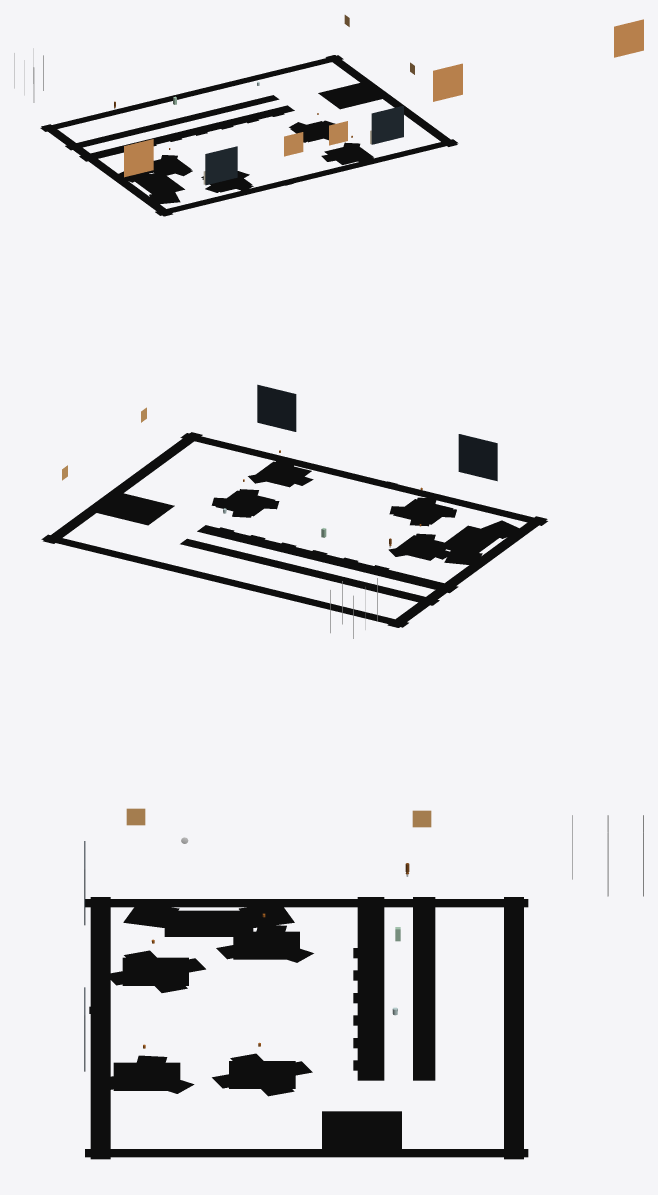
File: world_clear.glb
3 views of the same model, one above another, from view 1: azimuth 30°, elevation 25°; view 2: azimuth 150°, elevation 25°; view 3: azimuth 270°, elevation 25° (orthographic). The views are drawn at different scales.
Visible parts, largest first — view 1: g000, g001, g005, g002, g004, g042, g043, g045, g003, g061, g062, g060 (+7 smaller); view 2: g000, g001, g005, g004, g002, g042, g003, g043, g045, g051, g018, g023 (+2 smaller); view 3: g001, g000, g005, g004, g042, g002, g003, g051, g023, g035, g018, g029 (+2 smaller).
Boxes of the visible parts, x1,y1,x2,y2 form: g000: (40,55,343,131); g001: (155,139,458,215); g005: (65,95,279,150); g002: (41,124,172,216); g004: (79,105,294,161); g042: (318,81,388,109); g043: (205,146,237,185); g045: (371,105,403,144); g003: (325,55,457,146); g061: (433,63,462,101); g062: (614,19,643,57); g060: (124,139,153,177); g000: (41,534,408,627); g001: (180,433,547,525); g005: (180,538,439,605); g004: (197,525,458,593); g002: (387,516,547,627); g042: (89,491,174,525); g003: (43,432,202,543); g043: (458,434,497,481); g045: (257,384,296,431); g051: (438,525,503,555); g018: (392,535,445,560); g023: (393,499,453,524); g001: (90,897,110,1159); g000: (504,897,523,1159); g005: (413,897,435,1080); g004: (357,897,384,1080); g042: (322,1111,401,1154); g002: (85,899,528,907); g003: (85,1149,528,1157); g051: (164,910,253,936); g023: (122,957,188,985); g035: (113,1062,180,1090); g018: (233,931,299,959); g029: (229,1061,295,1088).
Bounding box in the file's own units: 24.4 × 4.46 × 14.21.
